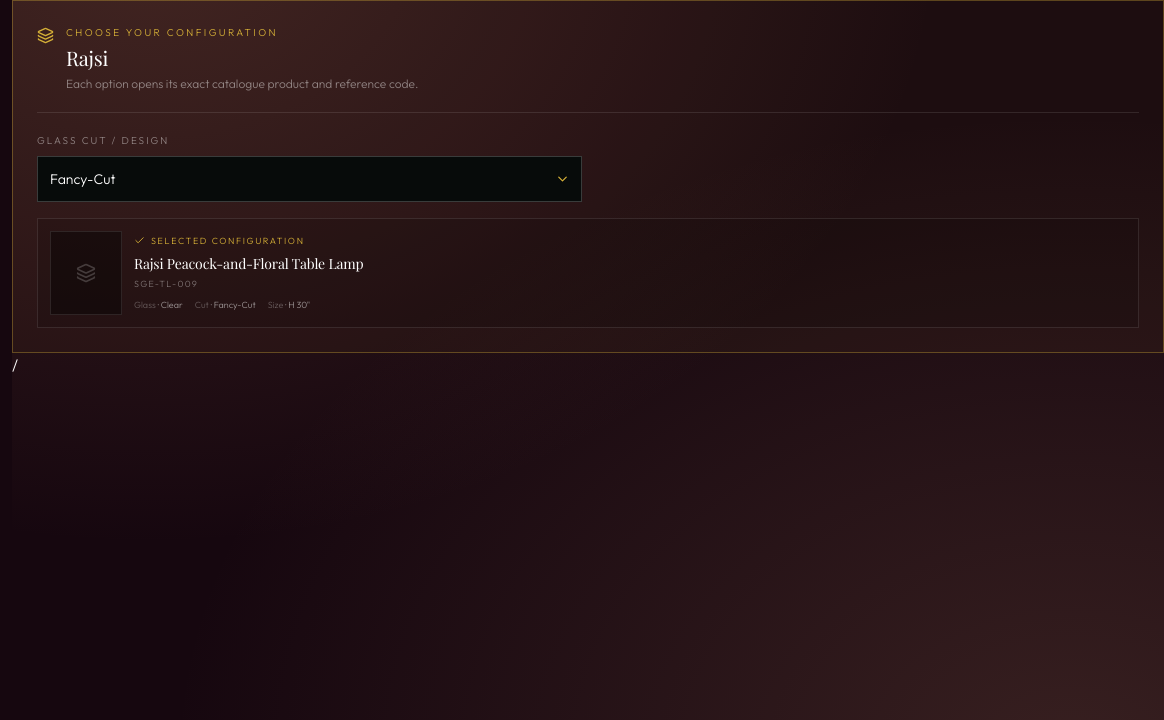
Test: uses canonical Glass Design instead of a conflicting descriptive Glass Type
This screenshot has width=1164, height=720.
Check: the element with test id "selected-configuration" shows "Cut · Fancy-Cut", box x1=37 y1=218 x2=1139 y2=328
Select "Diamond-Cut" in the dropdown labelled "Glass cut / design" at {"x": 310, "y": 179}, box x1=37 y1=156 x2=582 y2=202
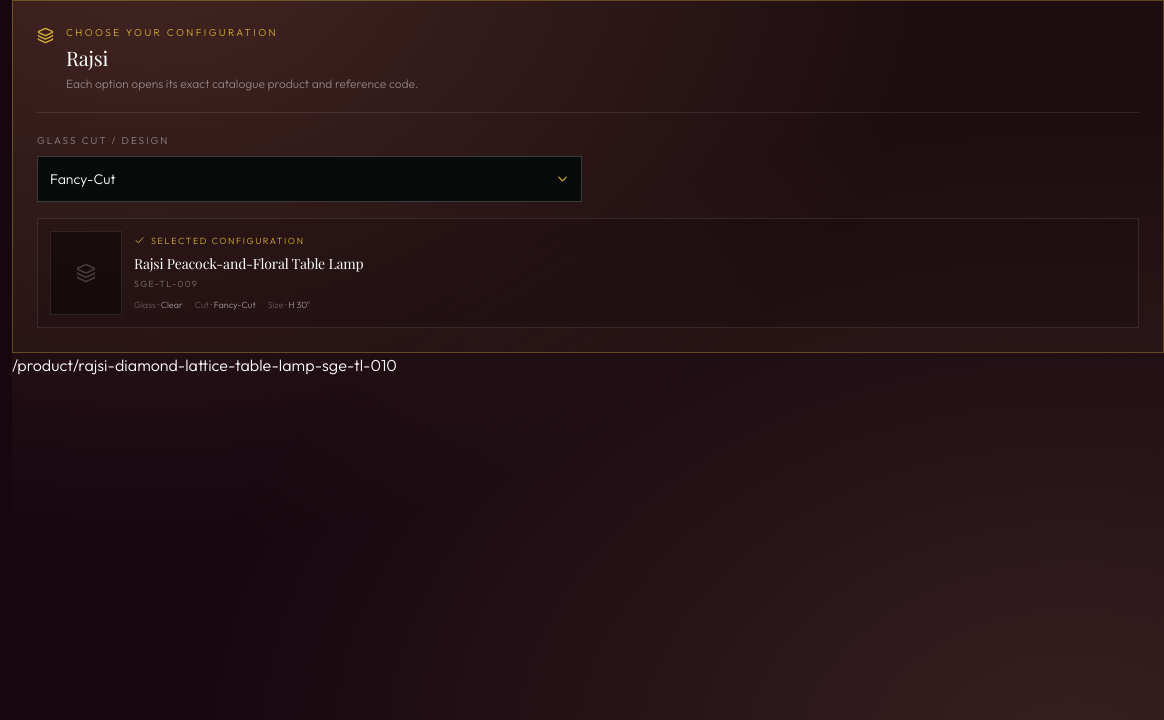
Check: the text with test id "location" shows "sge-tl-010", box x1=12 y1=355 x2=397 y2=375
